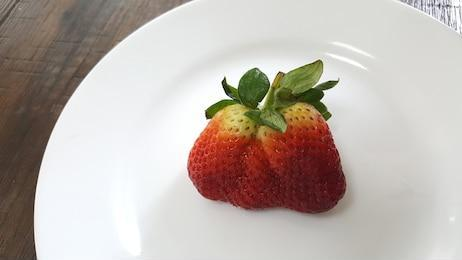Fresa: (183, 75, 352, 218)
